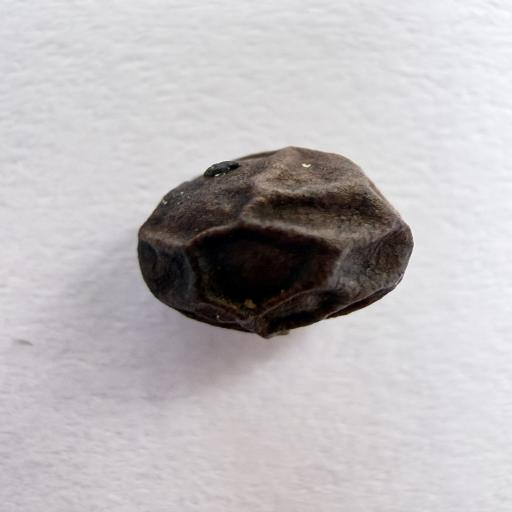Black_pepper: (104, 131, 452, 345)
